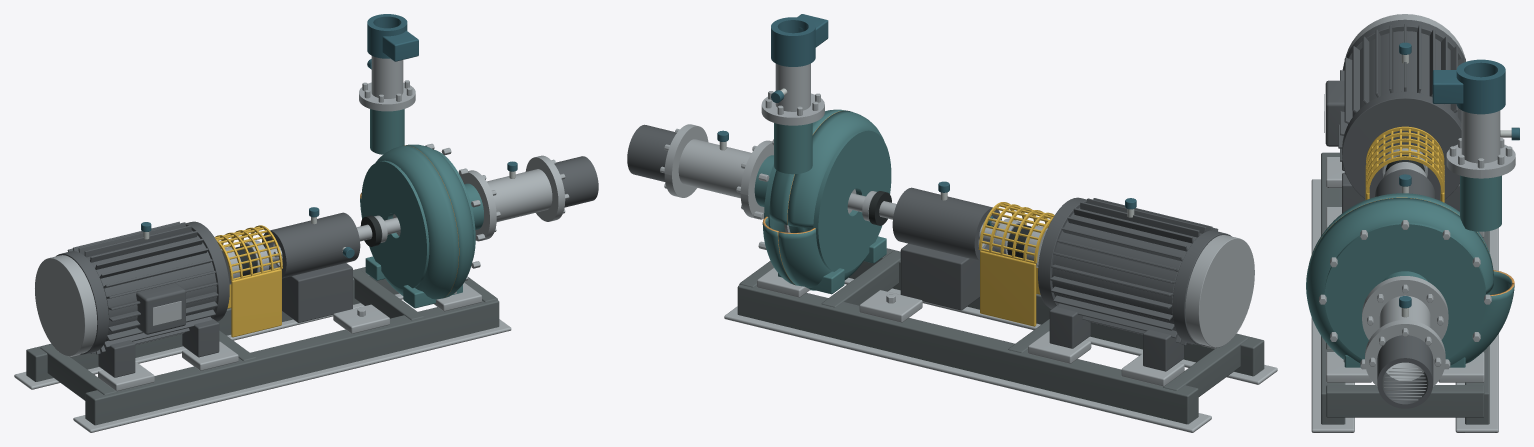
3 views of the same model, side by side, from view 1: azimuth 30°, elevation 25°; view 2: azimuth 150°, elevation 25°; view 3: azimuth 270°, elevation 25° (orthographic). The views are drawn at different scales.
Visible parts, largest first — view 1: GEO_BASE_RAIL, GEO_CASING_BACKPLATE, GEO_VOLUTE_REAR, GEO_MOTOR_FAN_COVER, GEO_MOTOR_BODY, GEO_BEARING_PEDESTAL, GEO_BASE_FLANGE, GEO_BEARING_HOUSING_UPPER, GEO_GUARD_LEG, GEO_VOLUTE_FRONT, GEO_BASE_RAIL.001, GEO_SUCTION_PIPE_SECTION (+26 smaller); view 2: GEO_BASE_RAIL.001, GEO_CASING_BACKPLATE, GEO_MOTOR_BODY, GEO_MOTOR_FAN_COVER, GEO_VOLUTE_REAR, GEO_BEARING_PEDESTAL, GEO_BASE_FLANGE.001, GEO_BEARING_HOUSING_UPPER, GEO_GUARD_LEG.001, GEO_BASE_RAIL, GEO_SUCTION_PIPE_REAR, GEO_VOLUTE_FRONT (+29 smaller); view 3: GEO_CASING_FRONTPLATE, GEO_VOLUTE_FRONT, GEO_MOTOR_END.001, GEO_CROSS_MEMBER.003, GEO_MOTOR_BODY, GEO_SUCTION_FLANGE, GEO_FLOW_METER_BODY, GEO_BASE_FLANGE, GEO_STRAINER_FLANGE, GEO_BASE_FLANGE.001, GEO_STRAINER_BODY_SECTION, GEO_STRAINER_BODY_REAR (+37 smaller).
Part boxes in pixels (left/top/right/bottom): GEO_BASE_RAIL: left=85, top=299, right=499, bottom=425; GEO_CASING_BACKPLATE: left=361, top=160, right=429, bottom=289; GEO_VOLUTE_REAR: left=360, top=145, right=458, bottom=299; GEO_MOTOR_FAN_COVER: left=35, top=255, right=97, bottom=356; GEO_MOTOR_BODY: left=82, top=230, right=216, bottom=344; GEO_BEARING_PEDESTAL: left=282, top=263, right=352, bottom=322; GEO_BASE_FLANGE: left=73, top=319, right=511, bottom=432; GEO_BEARING_HOUSING_UPPER: left=262, top=212, right=360, bottom=263; GEO_GUARD_LEG: left=231, top=269, right=281, bottom=337; GEO_VOLUTE_FRONT: left=404, top=144, right=473, bottom=297; GEO_BASE_RAIL.001: left=26, top=267, right=399, bottom=381; GEO_SUCTION_PIPE_SECTION: left=488, top=170, right=552, bottom=221; GEO_BASE_RAIL.001: left=737, top=284, right=1198, bottom=424; GEO_CASING_BACKPLATE: left=812, top=130, right=891, bottom=272; GEO_MOTOR_BODY: left=1052, top=207, right=1201, bottom=334; GEO_MOTOR_FAN_COVER: left=1185, top=235, right=1254, bottom=347; GEO_VOLUTE_REAR: left=778, top=110, right=884, bottom=290; GEO_BEARING_PEDESTAL: left=900, top=243, right=979, bottom=310; GEO_BASE_FLANGE.001: left=724, top=306, right=1211, bottom=432; GEO_BEARING_HOUSING_UPPER: left=892, top=187, right=1001, bottom=244; GEO_GUARD_LEG.001: left=980, top=250, right=1036, bottom=326; GEO_BASE_RAIL: left=849, top=248, right=1264, bottom=376; GEO_SUCTION_PIPE_REAR: left=678, top=141, right=750, bottom=198; GEO_VOLUTE_FRONT: left=762, top=109, right=845, bottom=285; GEO_CASING_FRONTPLATE: left=1324, top=222, right=1485, bottom=359; GEO_VOLUTE_FRONT: left=1306, top=198, right=1514, bottom=365; GEO_MOTOR_END.001: left=1342, top=91, right=1461, bottom=200; GEO_CROSS_MEMBER.003: left=1326, top=385, right=1484, bottom=417; GEO_MOTOR_BODY: left=1348, top=31, right=1457, bottom=124; GEO_SUCTION_FLANGE: left=1362, top=276, right=1448, bottom=339; GEO_FLOW_METER_BODY: left=1456, top=59, right=1505, bottom=114; GEO_BASE_FLANGE: left=1311, top=179, right=1354, bottom=432; GEO_STRAINER_FLANGE: left=1365, top=320, right=1445, bottom=386; GEO_BASE_FLANGE.001: left=1455, top=228, right=1498, bottom=432; GEO_STRAINER_BODY_SECTION: left=1377, top=335, right=1405, bottom=408; GEO_STRAINER_BODY_REAR: left=1405, top=335, right=1433, bottom=408.
Bounding box in the file's own units: 2.62 × 1.27 × 0.7415.
